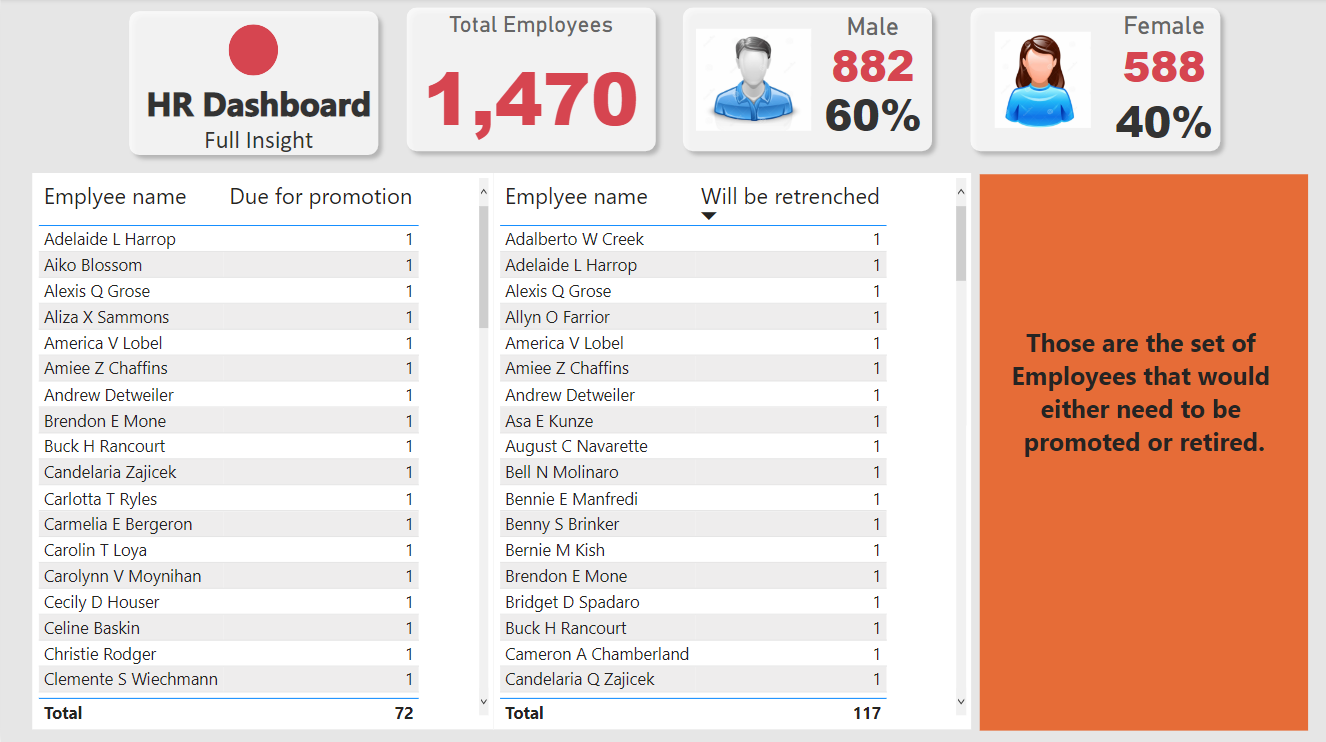

The dashboard page shown, as its layout file describes it:
{"tool":"powerbi","page":{"name":"Action","canvas":[1280,720],"ordinal":1},"visuals":[{"type":"shape","box":[114.6,3.6,258.1,156.8],"z":0},{"type":"shape","box":[382.3,0,258.1,156.8],"z":1000},{"type":"shape","box":[648.8,0,258.1,156.8],"z":2000},{"type":"shape","box":[926.2,0,259.3,156.8],"z":3000},{"type":"textbox","box":[123.8,75,248.8,83.8],"z":4000},{"type":"shape","box":[219.5,25.3,48.2,49.4],"z":5000},{"type":"card","title":"Total Employees","fields":{"Values":["All Measures.Total Emp"]},"box":[388.3,13.3,246,132.7],"z":6000},{"type":"card","title":"Male","fields":{"Values":["All Measures.Male"]},"box":[777.9,13.3,126.6,73.6],"z":7000},{"type":"card","title":"Male","fields":{"Values":["All Measures.%male"]},"box":[786.3,78.4,109.7,66.3],"z":8000},{"type":"card","title":"Female","fields":{"Values":["All Measures.Female"]},"box":[1058.9,12.1,126.6,77.2],"z":9000},{"type":"card","title":"Male","fields":{"Values":["All Measures.%female"]},"box":[1058.9,88,126.6,59.1],"z":10000},{"type":"image","box":[665.7,19.3,120.6,119.4],"z":11000},{"type":"image","box":[944.3,27.7,120.6,102.5],"z":12000},{"type":"tableEx","fields":{"Values":["HR Analytics Data.Emplyee name","All Measures.Due for promotion"]},"box":[30.2,168.8,445,536.7],"z":13000},{"type":"tableEx","fields":{"Values":["HR Analytics Data.Emplyee name","All Measures.Will be retrenched"]},"box":[475.2,168.8,460.7,536.7],"z":14000},{"type":"textbox","box":[944.3,170.1,317.2,536.7],"z":15000}]}

Visuals, with their boxes in screenshot pixels (x1, y1, x2, y2), scaled from the page's 1280x720 canvas onto the 1326x742 screenshot:
shape: detection(119, 4, 386, 165)
shape: detection(396, 0, 663, 162)
shape: detection(672, 0, 939, 162)
shape: detection(959, 0, 1228, 162)
textbox: detection(128, 77, 386, 164)
shape: detection(227, 26, 277, 77)
"Total Employees" card: detection(402, 14, 657, 150)
"Male" card: detection(806, 14, 937, 90)
"Male" card: detection(815, 81, 928, 149)
"Female" card: detection(1097, 12, 1228, 92)
"Male" card: detection(1097, 91, 1228, 152)
image: detection(690, 20, 815, 143)
image: detection(978, 29, 1103, 134)
tableEx - HR Analytics Data.Emplyee name x All Measures.Due for promotion: detection(31, 174, 492, 727)
tableEx - HR Analytics Data.Emplyee name x All Measures.Will be retrenched: detection(492, 174, 970, 727)
textbox: detection(978, 175, 1307, 728)
